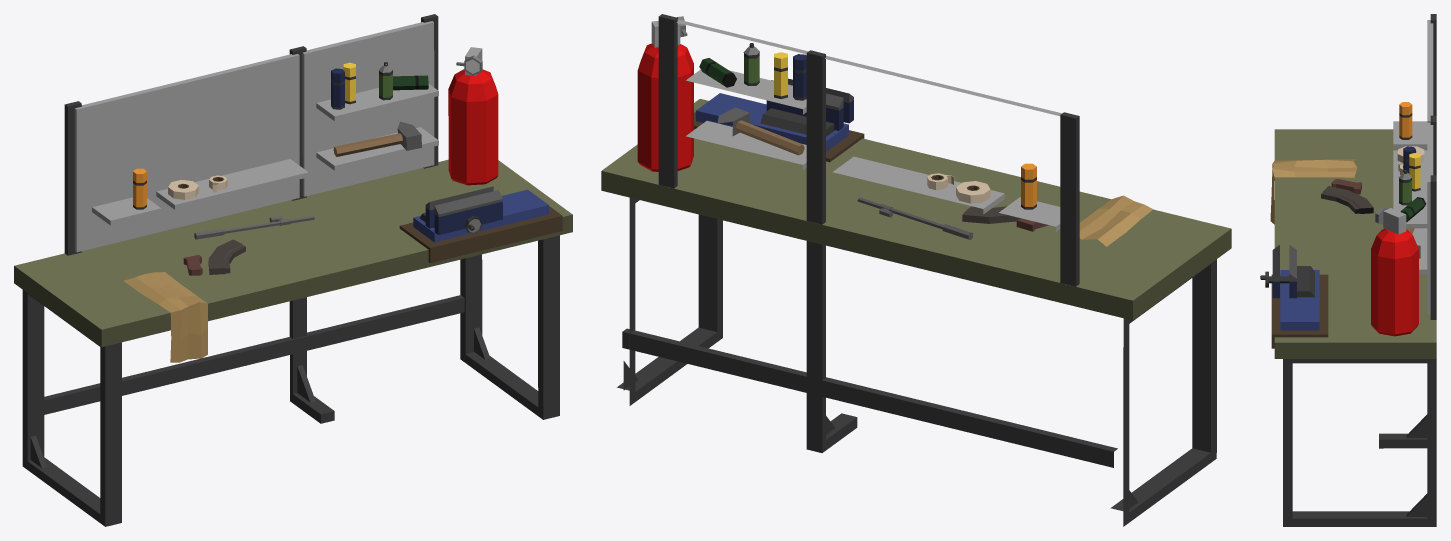
The model's file is GunUpgradeTable.glb.
3 renders of one model, left to right at view 1: azimuth 30°, elevation 25°; view 2: azimuth 150°, elevation 25°; view 3: azimuth 270°, elevation 25°, orthographic. The views are drawn at different scales.
Parts seen in each view (by area): view 1: GunUpgradeTable; view 2: GunUpgradeTable; view 3: GunUpgradeTable.
Boxes of the visible parts, x1=… form: GunUpgradeTable: x1=14, y1=14, x2=572, y2=526; GunUpgradeTable: x1=601, y1=14, x2=1231, y2=526; GunUpgradeTable: x1=1260, y1=14, x2=1436, y2=526.
Bounding box in the file's own units: 1.95 × 1.39 × 0.6819.
1 material, 1 textured.
